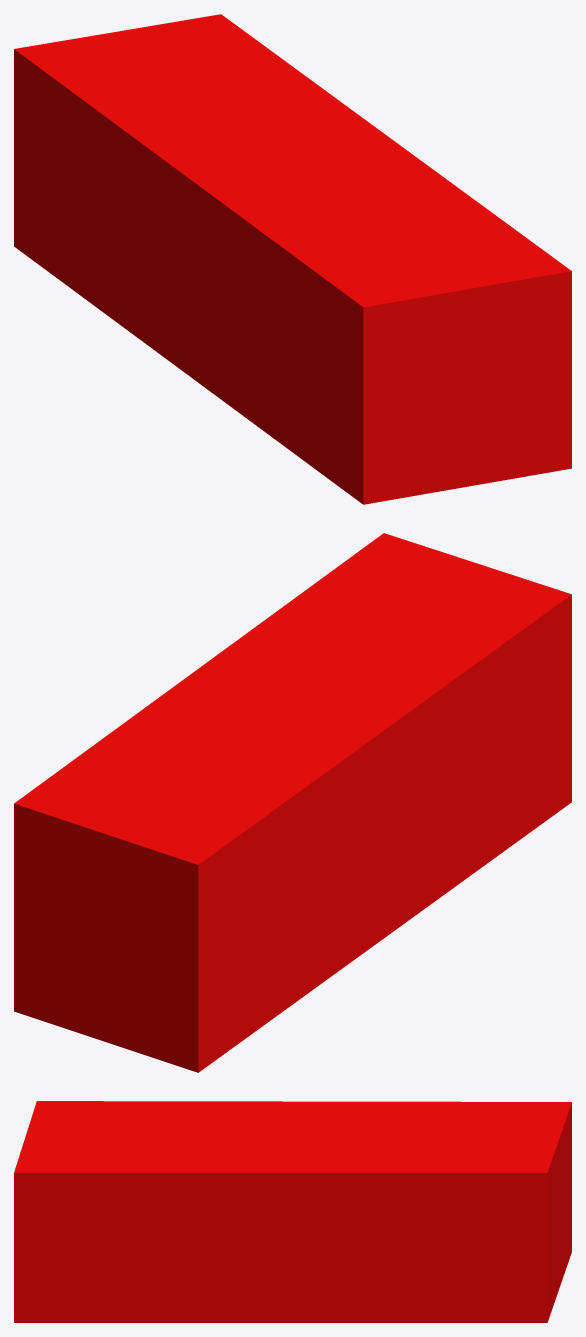
3 renders of one model, top to bottom at view 1: azimuth 30°, elevation 25°; view 2: azimuth 150°, elevation 25°; view 3: azimuth 270°, elevation 25°, orthographic. The views are drawn at different scales.
Parts seen in each view (by area): view 1: 8_7; view 2: 8_7; view 3: 8_7.
Boxes of the visible parts, x1,y1,x2,y2 form: 8_7: (14,14,571,504); 8_7: (14,533,571,1072); 8_7: (14,1101,571,1322).
Bounding box in the file's own units: 0.0111 × 0.0108 × 0.0365.
1 material, 1 textured.
